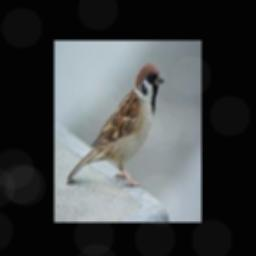Sparrow: (67, 62, 163, 186)
